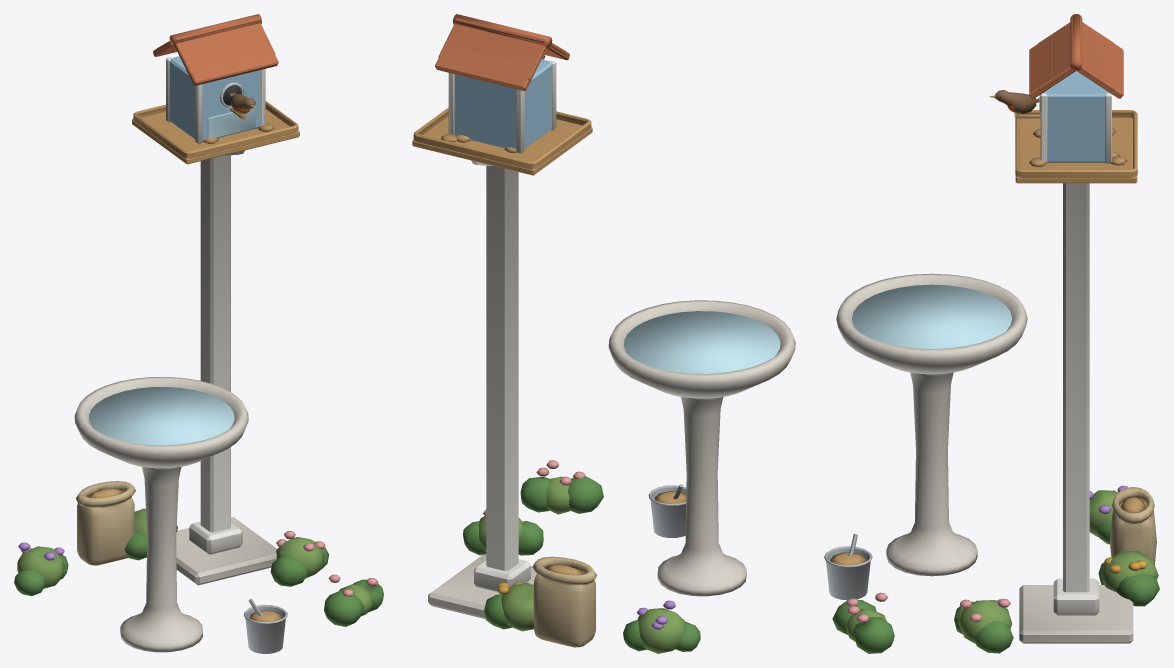
Rendered from songbirdFeeder.glb.
3 renders of one model, left to right at view 1: azimuth 30°, elevation 25°; view 2: azimuth 150°, elevation 25°; view 3: azimuth 270°, elevation 25°, orthographic. The views are drawn at different scales.
Parts seen in each view (by area): view 1: body, roof; view 2: body, roof; view 3: body, roof.
Part boxes in pixels (<box>): body: <box>14,56,383,653</box>; roof: <box>153,14,278,85</box>; body: <box>412,55,795,653</box>; roof: <box>435,14,569,90</box>; body: <box>824,71,1159,653</box>; roof: <box>1029,14,1123,98</box>.
Bounding box in the file's own units: 0.8959 × 1.7 × 0.884.
